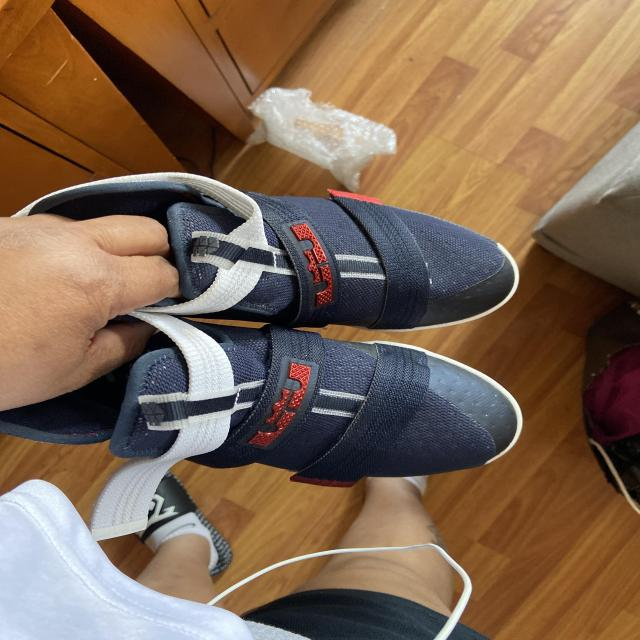shoes: (54, 341, 594, 486), (0, 182, 543, 310)
